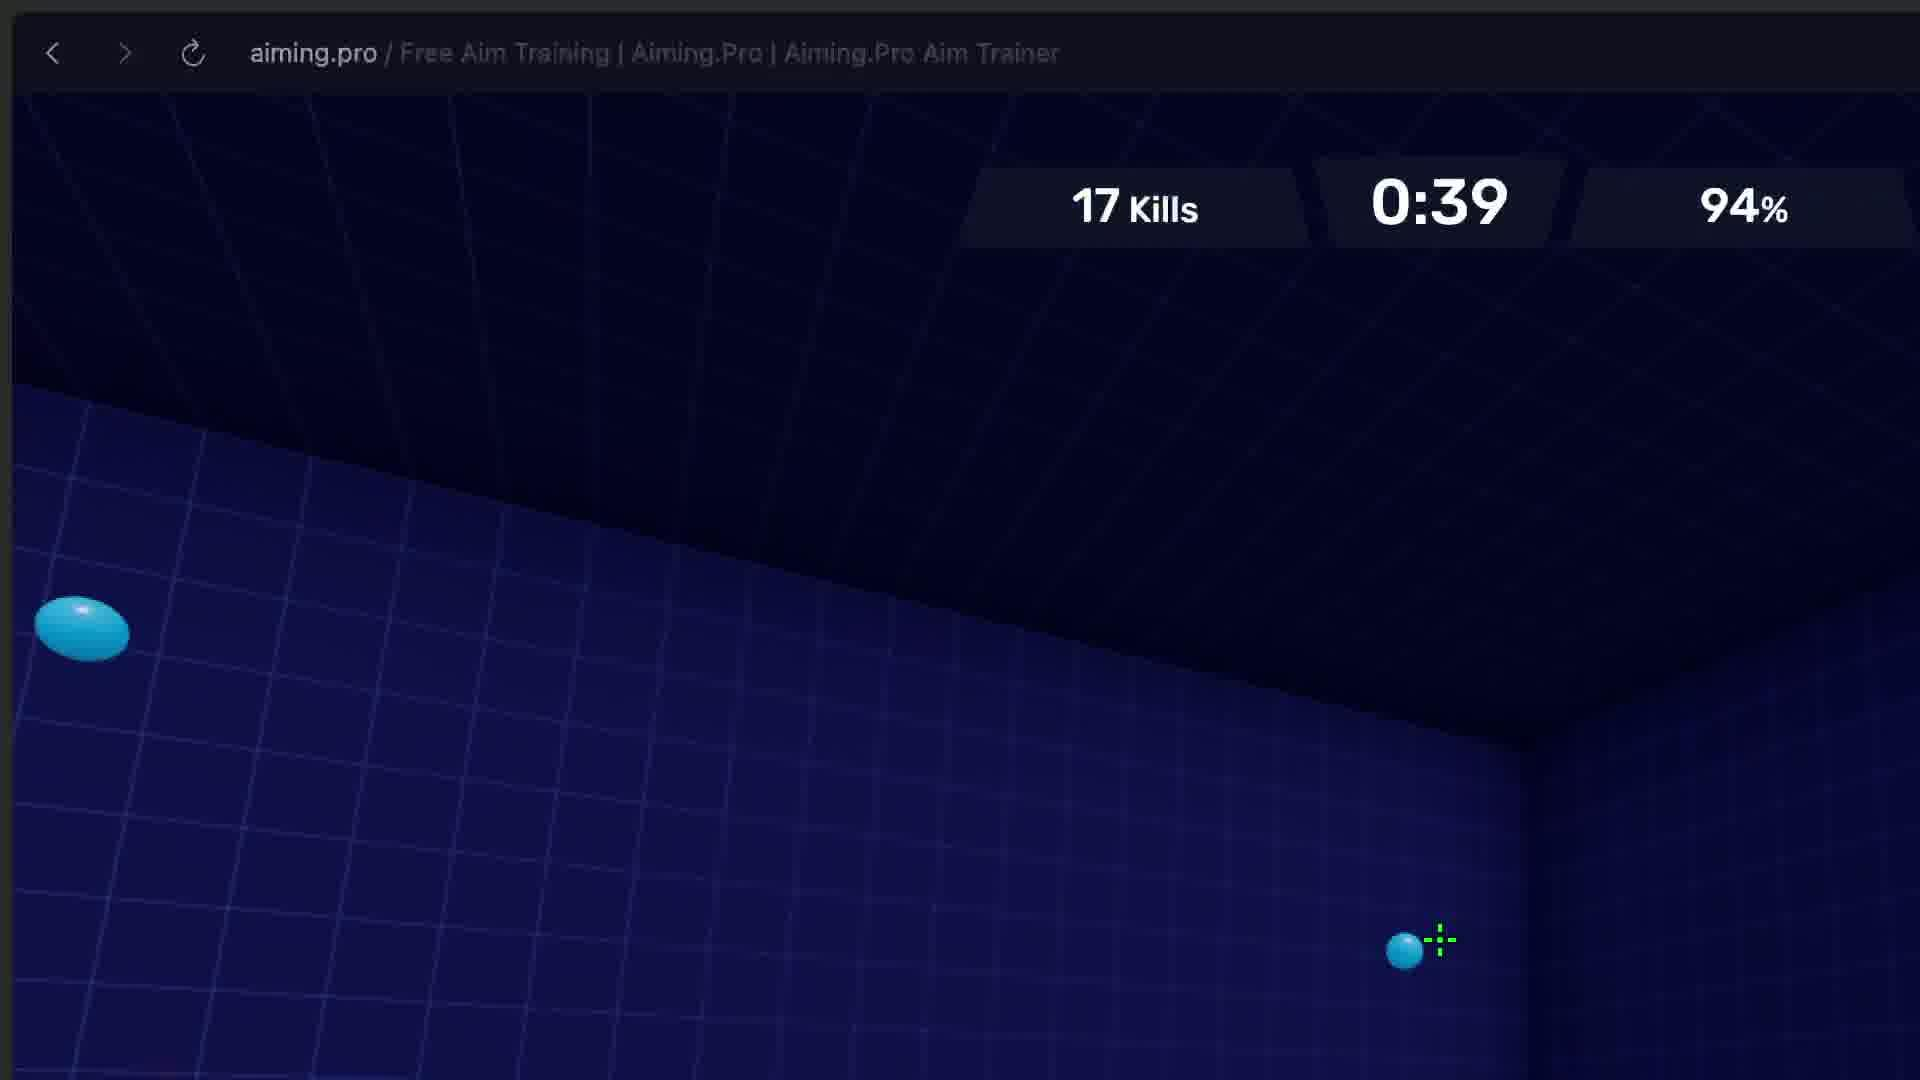target: (34, 597, 129, 661), (1386, 934, 1424, 975)
